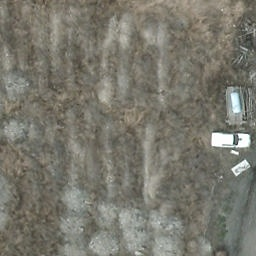car: (211, 133, 252, 153)
